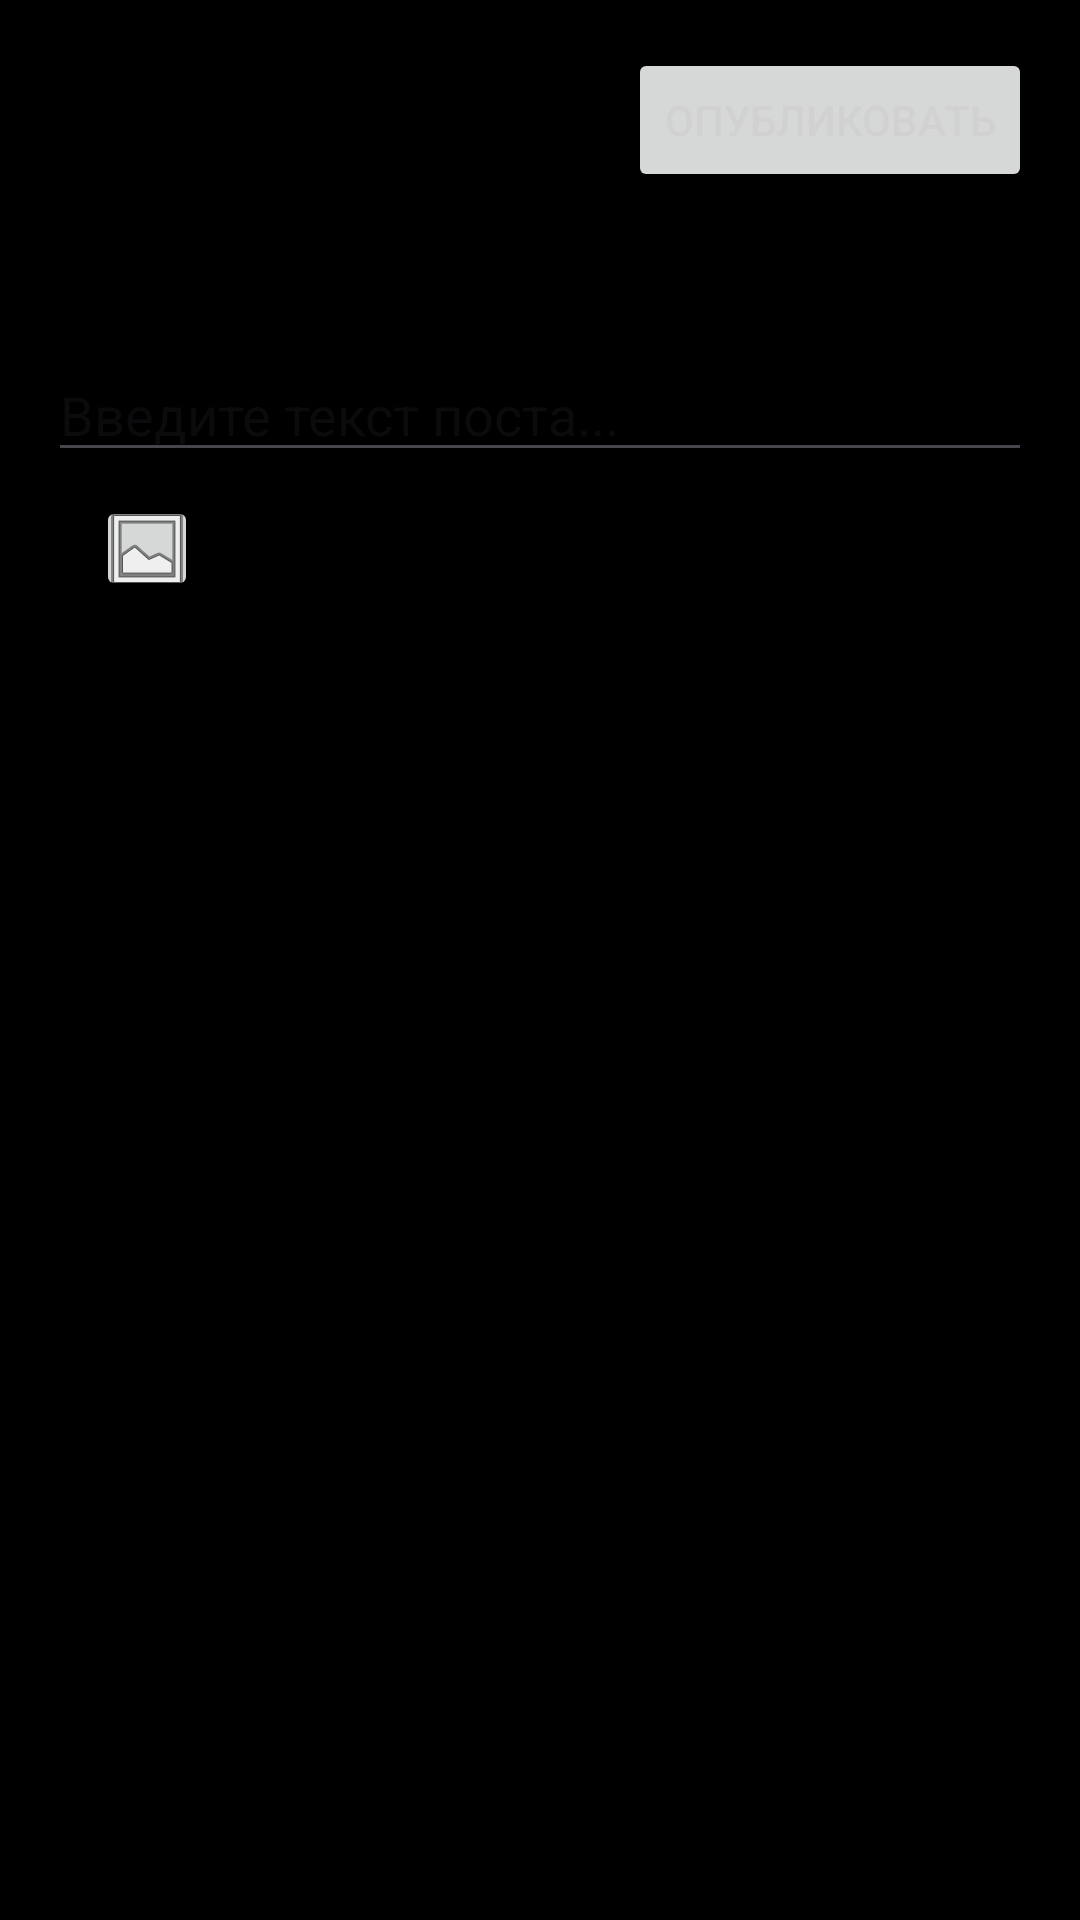

Screen size 1080*1920. Icon name, then its center in pixels as point (x, y):
Добавить медиа: point (147, 548)
